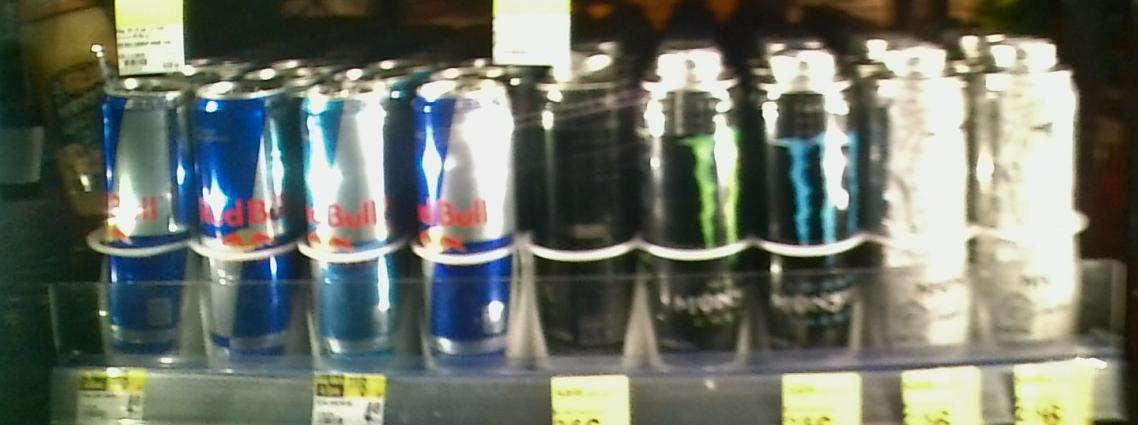bottle: (755, 49, 870, 349), (639, 45, 747, 361), (528, 46, 636, 347), (412, 71, 516, 375), (981, 37, 1082, 348), (191, 80, 297, 372), (876, 42, 976, 350), (301, 83, 405, 376), (89, 78, 189, 370)
